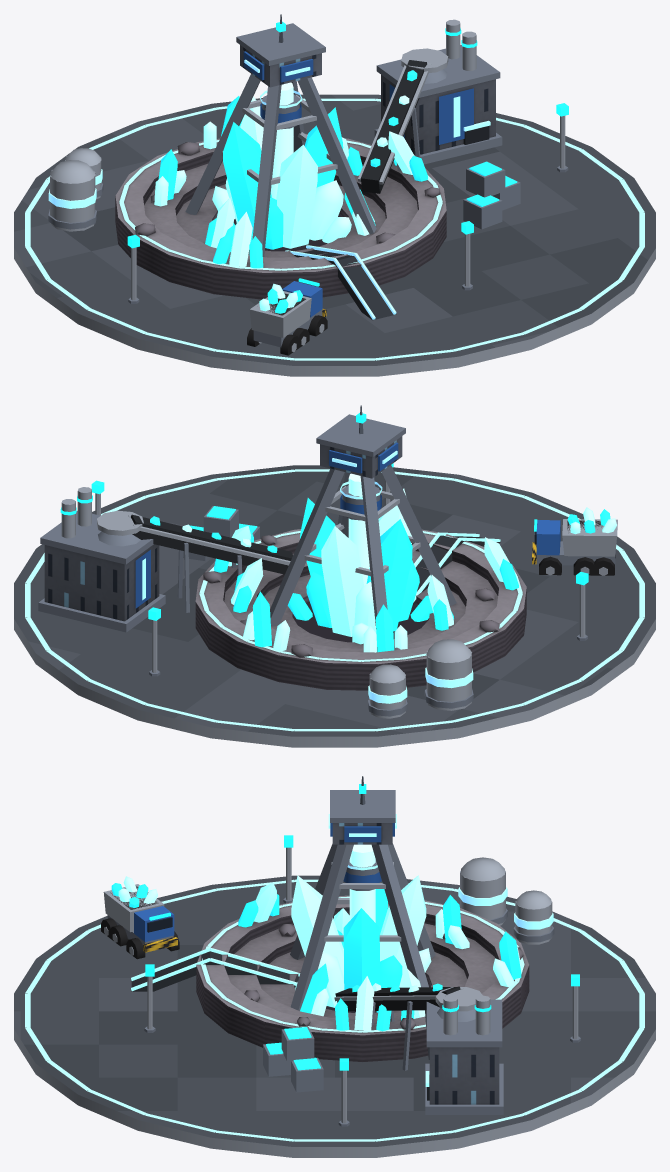
Rendered from mine_scifi_blue.glb.
3 renders of one model, top to bottom at view 1: azimuth 30°, elevation 25°; view 2: azimuth 150°, elevation 25°; view 3: azimuth 270°, elevation 25°, orthographic.
Visible parts, largest first — view 1: mine_scifi_blue; view 2: mine_scifi_blue; view 3: mine_scifi_blue.
Part boxes in pixels (x1,y1,x2,y2): mine_scifi_blue: (14, 14, 655, 376); mine_scifi_blue: (14, 405, 655, 747); mine_scifi_blue: (14, 776, 655, 1157).
Bounding box in the file's own units: 1.39 × 0.54 × 1.39.
6 materials, 1 textured.
